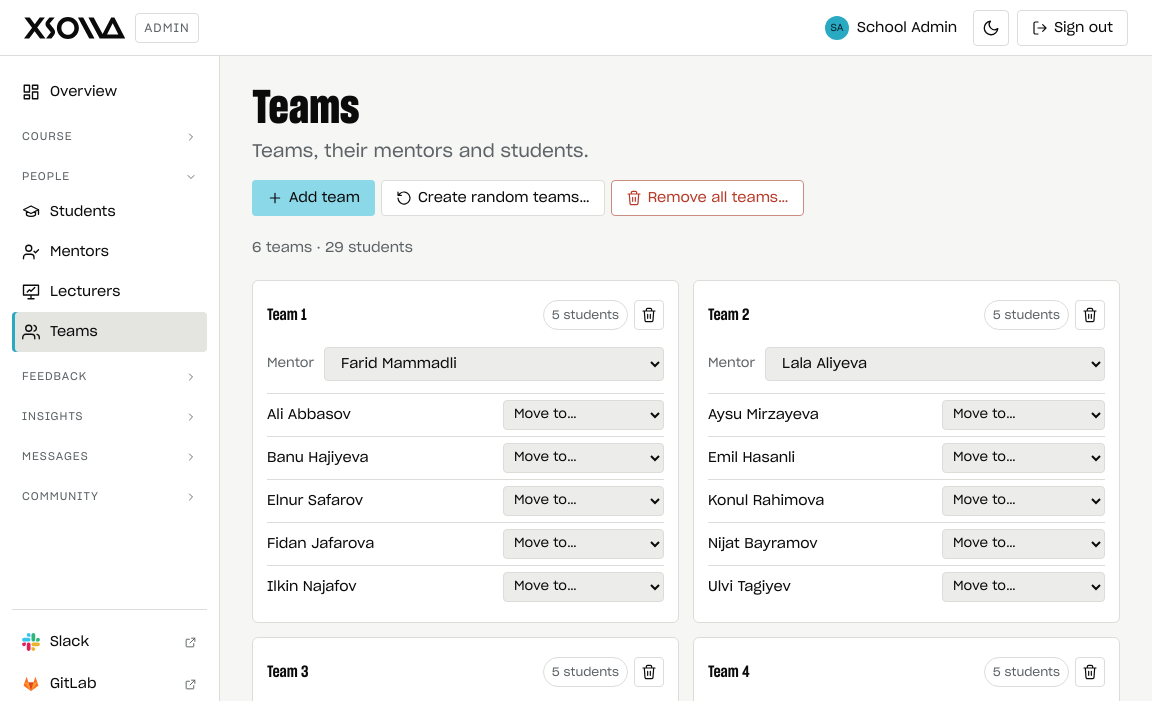
the admin menu folds only when it does not fit › a click opens a folded group and folds an open one; the choice is remembered
Click the button "Feedback" at point(110, 377), box [22,370,197,384]
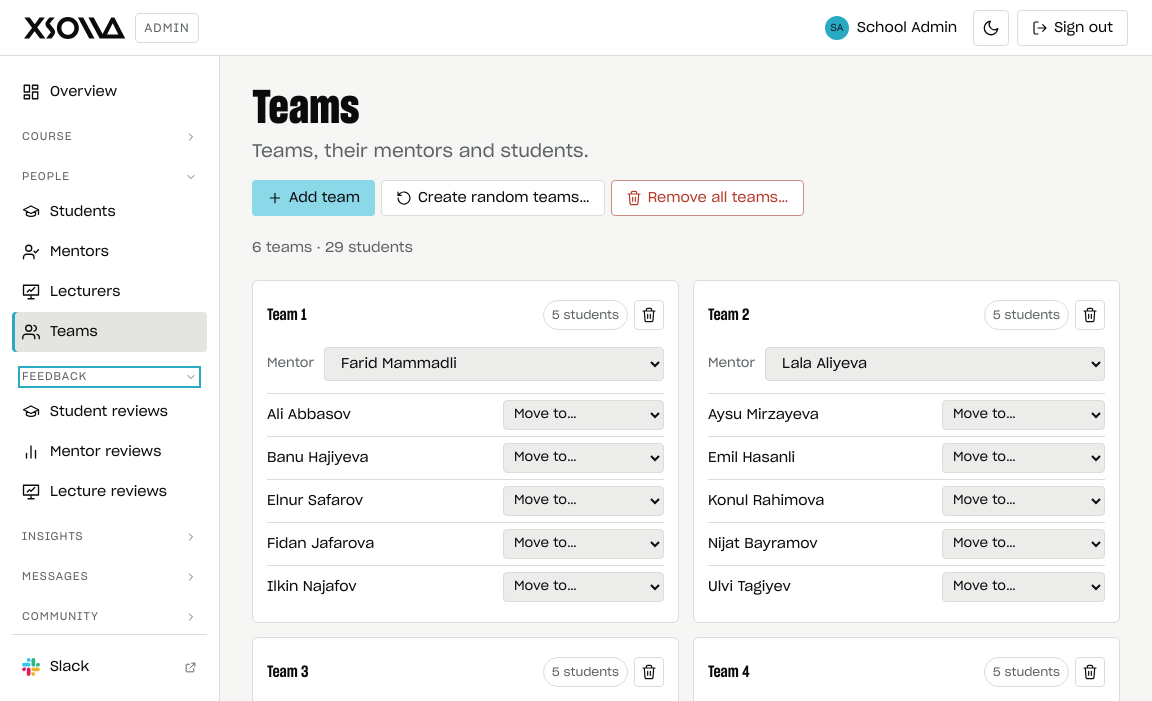
Now the button "Feedback" is expanded, box [22,370,197,384]
Click the button "People" at point(110, 177), box [22,170,197,184]
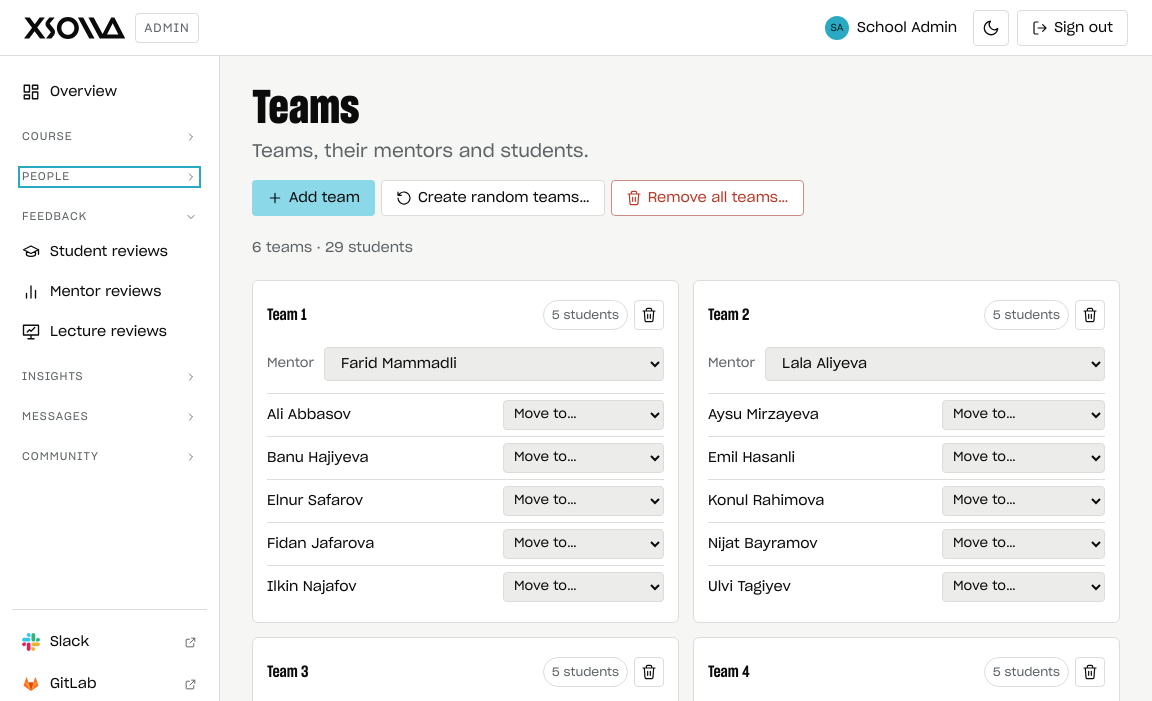
Now the button "People" is collapsed, box [22,170,197,184]
